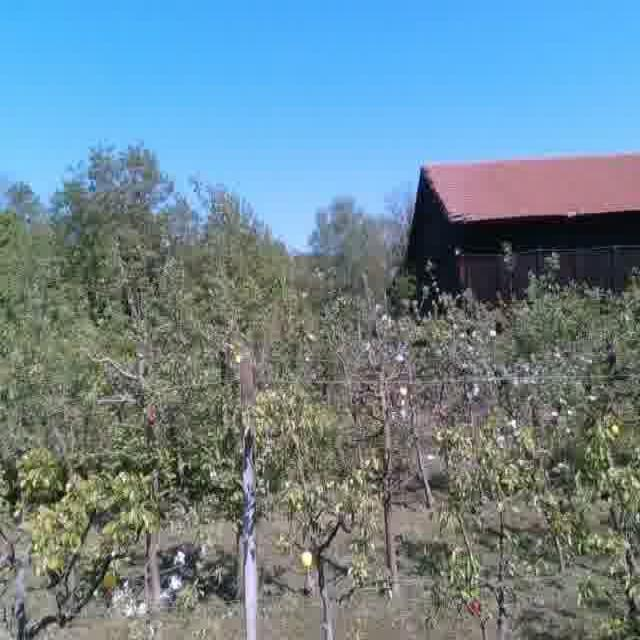red: (468, 596, 483, 617), (144, 404, 158, 426)
yellow: (298, 550, 314, 568)
